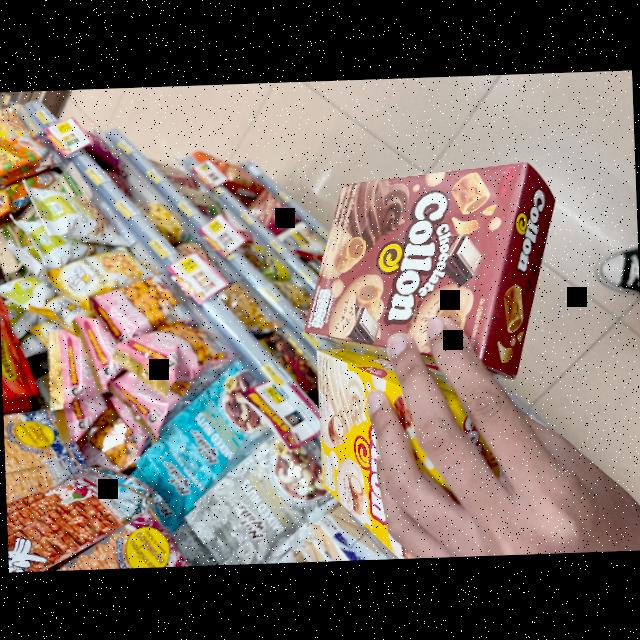cardboard_box: (294, 135, 568, 397), (280, 336, 475, 560)
